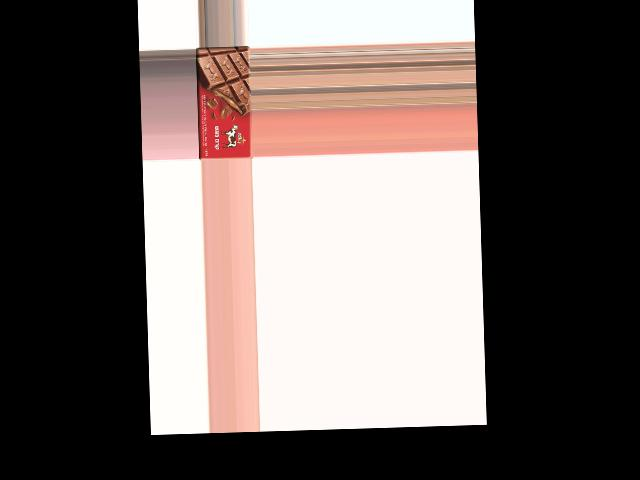chocolate: (196, 47, 253, 160)
